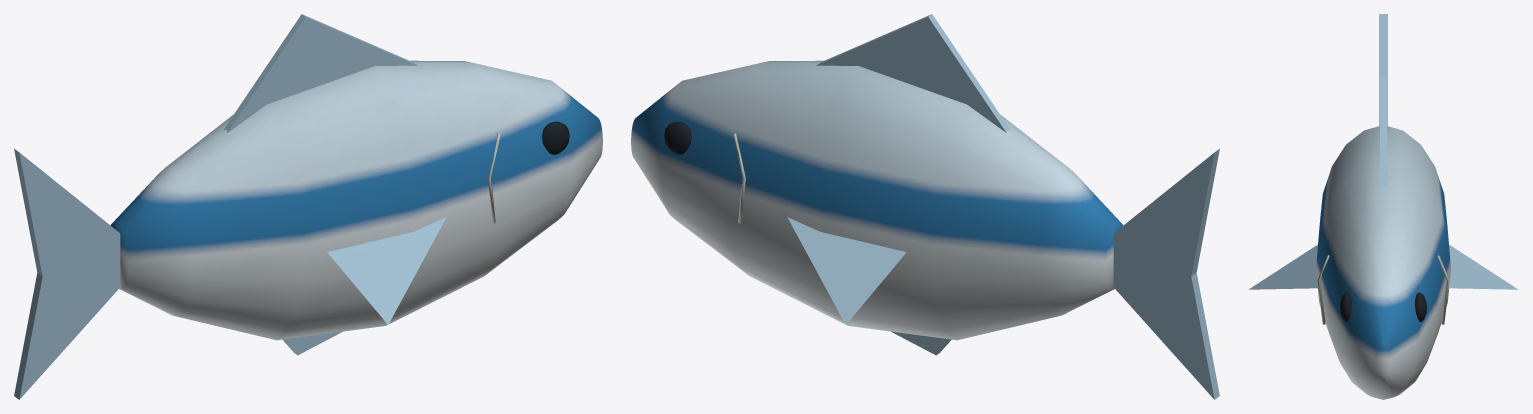
Rendered from small_fish.glb.
The picture shows the model from 3 angles, left to right: view 1: azimuth 30°, elevation 25°; view 2: azimuth 150°, elevation 25°; view 3: azimuth 270°, elevation 25°; orthographic projection. The views are drawn at different scales.
Parts seen in each view (by area): view 1: 24 Small Fish; view 2: 24 Small Fish; view 3: 24 Small Fish.
Part boxes in pixels (<box>): 24 Small Fish: <box>14,14,602,399</box>; 24 Small Fish: <box>631,14,1219,399</box>; 24 Small Fish: <box>1249,14,1517,399</box>.
Size of the model in its own units: 0.75 by 0.415 by 0.36.
4 materials, 4 textured.
